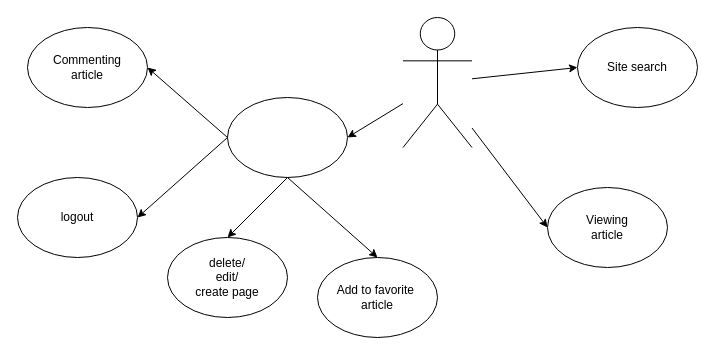
Image size: 715x355. Some labels were removed from this diagram. Here are the shapes that lost their labels. From the top down, the box of each, then its label:
(402, 16, 472, 148): User
(226, 96, 348, 178): Registration/ authorization
